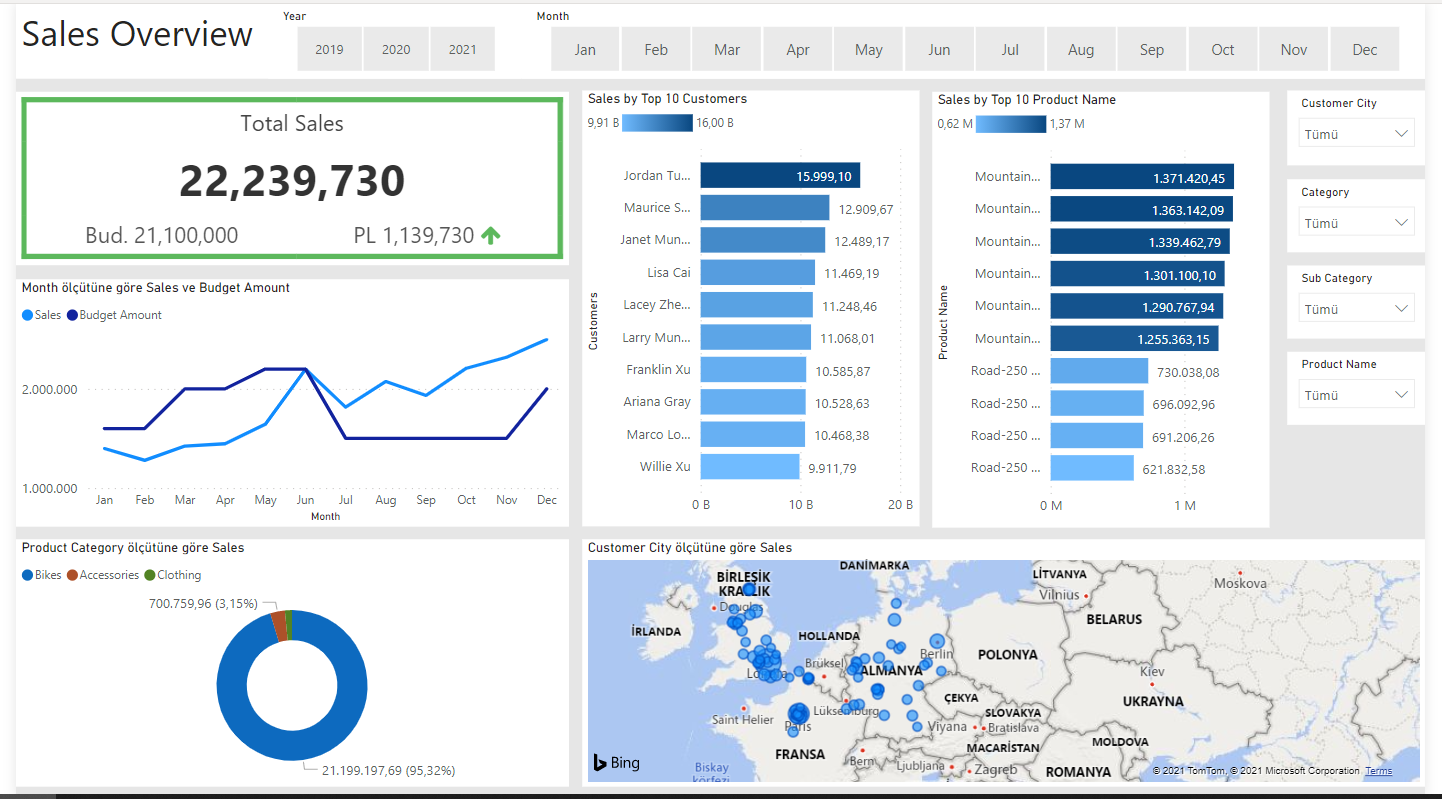

This screenshot's page, from the dashboard's own definition file:
{"tool":"powerbi","page":{"name":"Sales Overview","canvas":[1280,720],"ordinal":0},"visuals":[{"type":"textbox","box":[0,0,1280,68.7],"z":0},{"type":"slicer","fields":{"Values":["DIM_Customer.Customer City"]},"box":[1154.4,79.9,125.8,67.8],"z":1000},{"type":"slicer","fields":{"Values":["DIM_Product.Product Category"]},"box":[1154.4,159.7,125.8,66.5],"z":2000},{"type":"slicer","fields":{"Values":["DIM_Product.Sub Category"]},"box":[1154.4,238.4,125.8,66.5],"z":3000},{"type":"slicer","fields":{"Values":["DIM_Product.Product Name"]},"box":[1154.4,317,125.8,66.5],"z":4000},{"type":"slicer","fields":{"Values":["DIM_Calendar.Year"]},"box":[229.9,0,229.9,69],"z":5000},{"type":"slicer","fields":{"Values":["DIM_Calendar.MonthShort"]},"box":[459.8,0,820.4,69],"z":6000},{"type":"BBED0A4D4D8D44CE93CF2DAFADEE466C","fields":{"actual":["Key Measures.Sales"],"target1":["Key Measures.Budget Amount"],"target2":["Key Measures.Sales - Budget"]},"box":[0,81.1,502.2,157.3],"z":7000},{"type":"donutChart","fields":{"Category":["DIM_Product.Product Category"],"Y":["Key Measures.Sales"]},"box":[0,487.7,502.2,225.1],"z":7001},{"type":"lineChart","fields":{"Y":["Key Measures.Sales","Key Measures.Budget Amount"],"Category":["DIM_Calendar.MonthShort"]},"box":[0,250.5,502.2,225.1],"z":7002},{"type":"barChart","title":"Sales by Top 10 Customers","fields":{"Y":["Key Measures.Sales"],"Category":["DIM_Customer.Full Name"]},"box":[514.3,79.9,306.1,395.7],"z":7003},{"type":"barChart","title":"Sales by Top 10 Product Name","fields":{"Y":["Key Measures.Sales"],"Category":["DIM_Product.Product Name"]},"box":[832.5,81.1,306.1,395.7],"z":7004},{"type":"map","fields":{"Size":["Key Measures.Sales"],"Category":["DIM_Customer.Customer City"]},"box":[514.3,487.7,766,225.1],"z":7005}]}

Visuals, with their boxes in screenshot pixels (x1, y1, x2, y2), scaled from the page's 1280x720 canvas onto the 1442x799 screenshot:
textbox: 0:0:1441:76
slicer - DIM_Customer.Customer City: 1301:89:1441:164
slicer - DIM_Product.Product Category: 1301:177:1441:251
slicer - DIM_Product.Sub Category: 1301:265:1441:338
slicer - DIM_Product.Product Name: 1301:352:1441:426
slicer - DIM_Calendar.Year: 259:0:518:77
slicer - DIM_Calendar.MonthShort: 518:0:1441:77
BBED0A4D4D8D44CE93CF2DAFADEE466C - Key Measures.Sales x Key Measures.Budget Amount: 0:90:566:265
donutChart - DIM_Product.Product Category x Key Measures.Sales: 0:541:566:791
lineChart - Key Measures.Sales x Key Measures.Budget Amount: 0:278:566:528
"Sales by Top 10 Customers" barChart: 579:89:924:528
"Sales by Top 10 Product Name" barChart: 938:90:1283:529
map - Key Measures.Sales x DIM_Customer.Customer City: 579:541:1441:791
